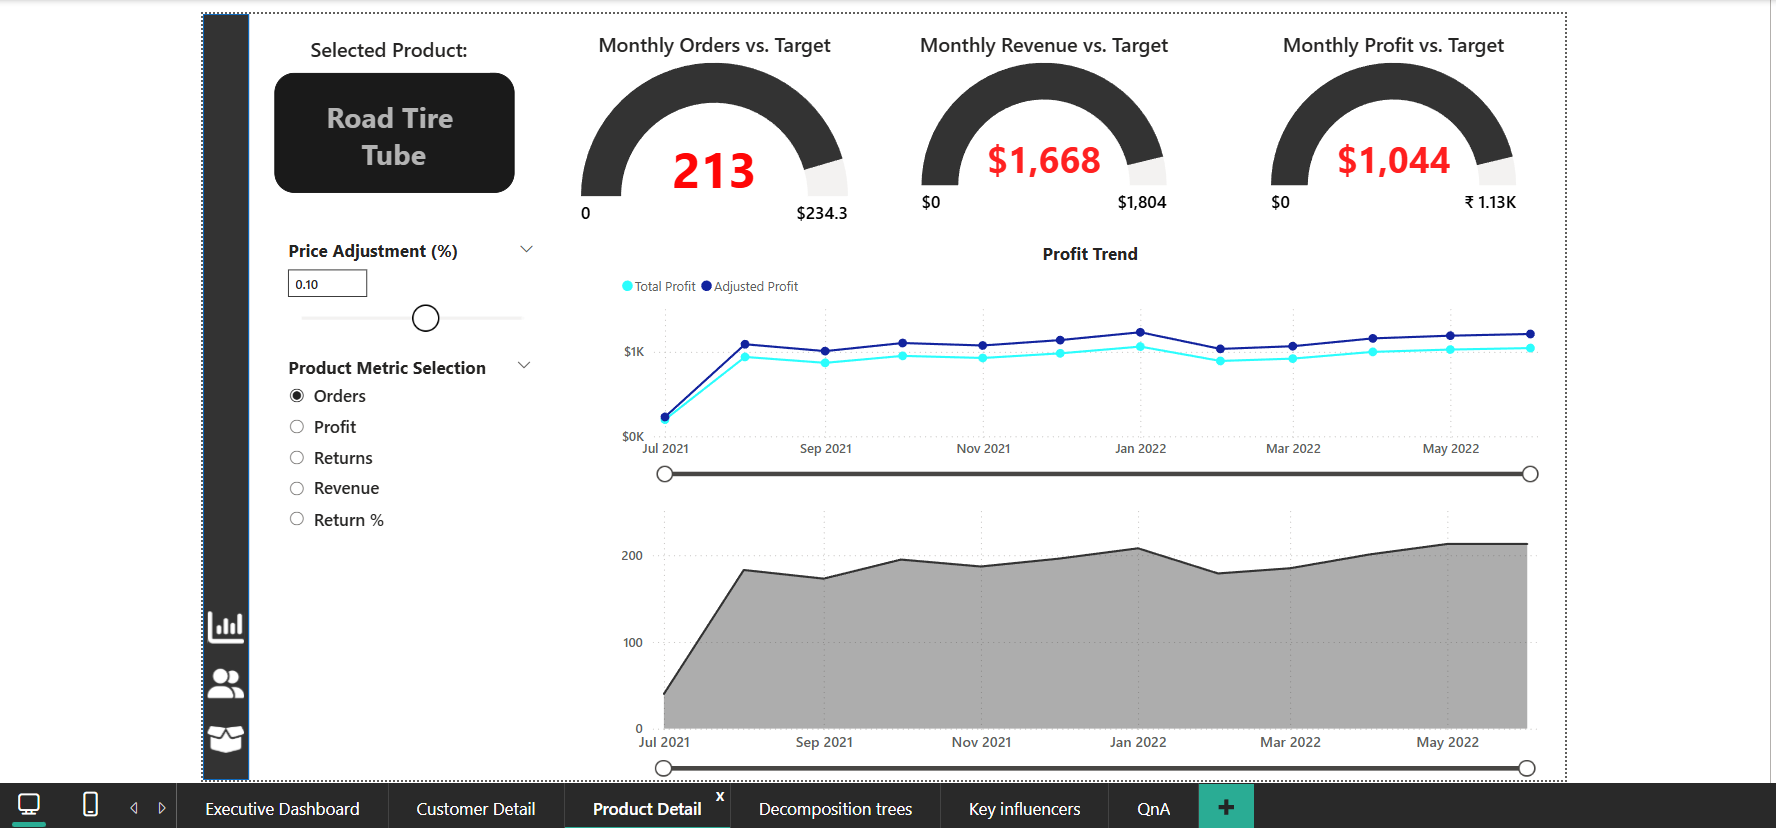

The page's visual inventory and layout, read from the dashboard file:
{"tool":"powerbi","page":{"name":"Product Detail","canvas":[1280,720],"ordinal":2},"visuals":[{"type":"shape","box":[0,0,43.3,720],"z":0},{"type":"gauge","title":"Monthly Revenue vs. Target","fields":{"Y":["Measure Table.Total Revenue"],"MaxValue":["Measure Table.Revenue Target"]},"box":[644.4,16.1,291.5,181.6],"z":1000},{"type":"actionButton","box":[0,602.9,42.5,52.4],"z":1000,"group":"g1"},{"type":"gauge","title":"Monthly Orders vs. Target","fields":{"Y":["Measure Table.Total Orders"],"MaxValue":["Measure Table.Order Target"]},"box":[320.8,16.1,319.3,191.9],"z":2000},{"type":"gauge","title":"Monthly Profit vs. Target","fields":{"Y":["Measure Table.Total Profit"],"MaxValue":["Measure Table.Profit Target"]},"box":[984.2,16.1,269.5,181.6],"z":3000},{"type":"actionButton","box":[0,655.2,42.5,52.4],"z":3000,"group":"g1"},{"type":"actionButton","box":[0,550.5,42.5,52.4],"z":4000,"group":"g1"},{"type":"lineChart","title":"Profit Trend","fields":{"Category":["Calendar Lookup.Date Hierarchy.Year","Calendar Lookup.Date Hierarchy.Start of Month","Calendar Lookup.Date Hierarchy.Start of Week","Calendar Lookup.Date Hierarchy.Date"],"Y":["Measure Table.Total Profit","Measure Table.Adjusted Profit"]},"box":[388.6,214.3,891.4,228.6],"z":4000},{"type":"areaChart","title":"Returns Trend","fields":{"Y":["Measure Table.Total Orders"],"Category":["Calendar Lookup.Date Hierarchy.Year","Calendar Lookup.Date Hierarchy.Start of Month","Calendar Lookup.Date Hierarchy.Start of Week","Calendar Lookup.Date Hierarchy.Date"]},"box":[388.6,454.3,891.4,265.7],"z":5000},{"type":"card","fields":{"Values":["Min(Product Lookup.ProductName)"]},"box":[67.4,55.7,225.6,112.8],"z":6000},{"type":"textbox","box":[80.6,16.1,188.9,39.5],"z":7000},{"type":"group","id":"g1","title":"Page Navigators","box":[0,550.5,42.5,157.1],"z":8000},{"type":"slicer","fields":{"Values":["Price Adjustment (%).Price Adjustment (%)"]},"box":[67.1,207.1,255.7,152.9],"z":9000},{"type":"slicer","fields":{"Values":["Product Metric Selection.Product Metric Selection"]},"box":[67.4,316.4,253.4,180.1],"z":10000}]}

Visuals, with their boxes on the page's 1280x720 design canvas (x1, y1, x2, y2). These are canvas units, not pixel positions in the 1776x828 screenshot, which may show the page scaled, cropped or inside an application window:
shape: [x1=0, y1=0, x2=43, y2=720]
"Monthly Revenue vs. Target" gauge: [x1=644, y1=16, x2=936, y2=198]
actionButton: [x1=0, y1=603, x2=42, y2=655]
"Monthly Orders vs. Target" gauge: [x1=321, y1=16, x2=640, y2=208]
"Monthly Profit vs. Target" gauge: [x1=984, y1=16, x2=1254, y2=198]
actionButton: [x1=0, y1=655, x2=42, y2=708]
actionButton: [x1=0, y1=550, x2=42, y2=603]
"Profit Trend" lineChart: [x1=389, y1=214, x2=1280, y2=443]
"Returns Trend" areaChart: [x1=389, y1=454, x2=1280, y2=720]
card - Min(Product Lookup.ProductName): [x1=67, y1=56, x2=293, y2=168]
textbox: [x1=81, y1=16, x2=270, y2=56]
"Page Navigators" group: [x1=0, y1=550, x2=42, y2=708]
slicer - Price Adjustment (%).Price Adjustment (%): [x1=67, y1=207, x2=323, y2=360]
slicer - Product Metric Selection.Product Metric Selection: [x1=67, y1=316, x2=321, y2=496]
